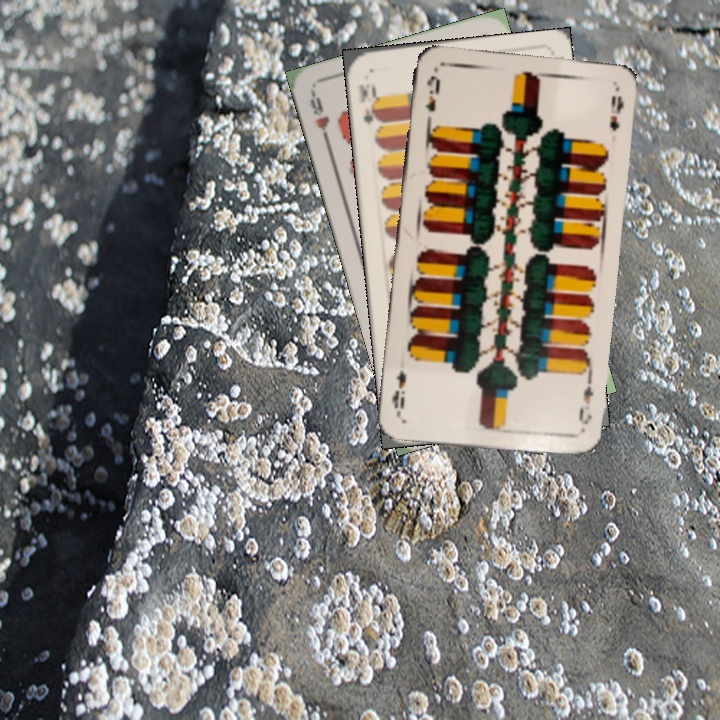E10: (354, 80, 384, 131)
E9: (421, 72, 443, 127), (575, 376, 596, 427)
H9: (306, 89, 333, 147)
